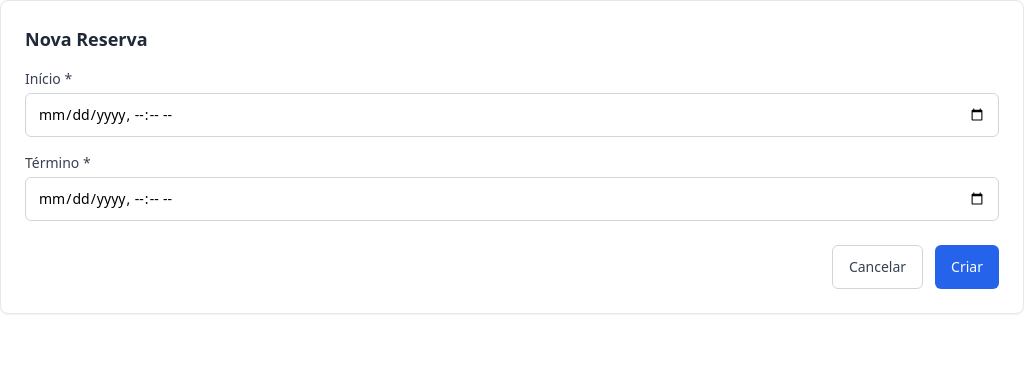
Test: ReservationForm › shows validation error when startAt is empty
The width and height of the screenshot is (1024, 371).
Click the button "Criar" at [967, 267], box top-left (935, 245), bottom-right (999, 289)
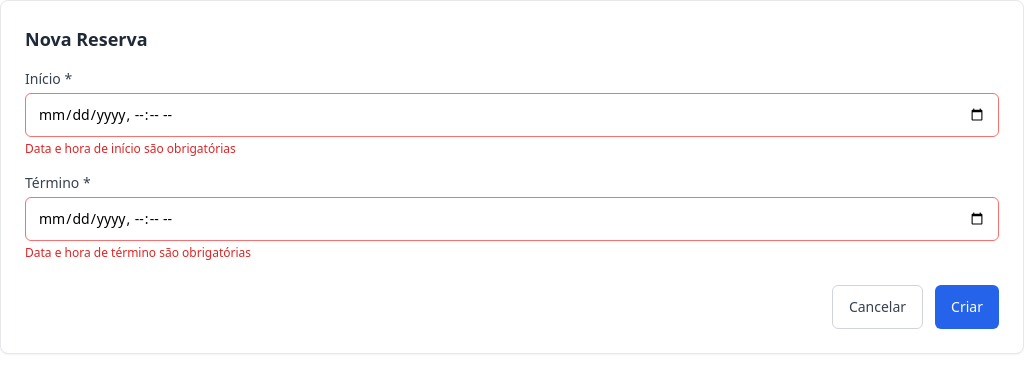
Now the text "Data e hora de início são obrigatórias" is shown, box top-left (25, 140), bottom-right (236, 157)
